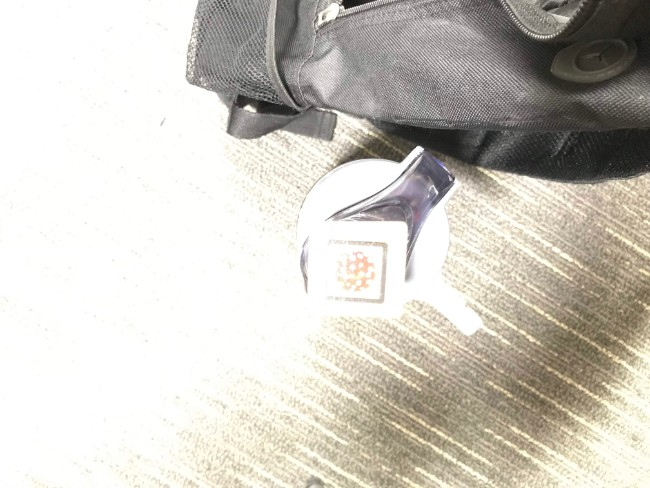cookie: (319, 237, 393, 308)
